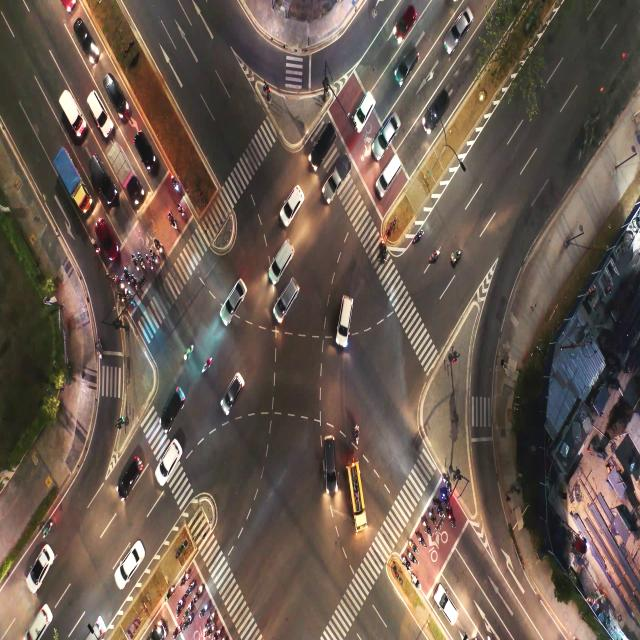bus: (353, 465, 360, 507)
car: (338, 295, 352, 343), (222, 286, 242, 314), (453, 12, 469, 42), (316, 126, 332, 154), (276, 244, 292, 270), (379, 123, 395, 147), (282, 282, 295, 311), (324, 444, 334, 481), (385, 156, 397, 183), (398, 55, 412, 78), (431, 96, 445, 119), (398, 13, 412, 33), (288, 186, 298, 214), (31, 612, 43, 634), (34, 554, 45, 577), (77, 25, 90, 44), (128, 462, 138, 485), (360, 99, 372, 117), (437, 593, 448, 610), (227, 380, 237, 398), (140, 141, 150, 158), (125, 554, 136, 569), (100, 227, 110, 243), (96, 105, 105, 122), (96, 165, 104, 181), (110, 80, 117, 97), (167, 450, 174, 466), (168, 399, 176, 413)
motorcycle: (182, 342, 195, 364), (200, 356, 210, 375), (413, 228, 423, 245), (428, 249, 440, 263), (180, 571, 190, 586), (42, 522, 53, 535), (353, 424, 360, 444), (452, 251, 462, 263), (414, 574, 422, 589), (97, 338, 104, 355), (380, 243, 387, 259), (167, 586, 174, 600), (182, 616, 190, 628), (106, 274, 114, 286), (177, 596, 183, 610), (200, 602, 207, 614), (449, 509, 453, 527), (187, 582, 193, 594), (196, 588, 202, 600), (185, 605, 191, 617), (130, 257, 136, 269), (170, 212, 174, 229), (157, 240, 163, 251), (216, 625, 221, 638), (179, 206, 184, 219), (425, 521, 430, 533), (207, 615, 212, 627), (126, 292, 132, 302), (437, 503, 442, 512), (444, 477, 448, 488), (205, 629, 212, 635), (118, 292, 124, 299), (443, 495, 448, 503), (412, 542, 417, 550), (411, 554, 416, 562), (151, 252, 155, 262), (125, 269, 129, 279), (119, 282, 124, 290), (431, 513, 435, 522), (419, 535, 423, 544), (173, 179, 177, 188), (146, 256, 149, 266), (405, 559, 409, 566), (140, 257, 142, 267), (134, 278, 136, 286)
truck: (332, 164, 347, 190), (64, 163, 74, 190), (118, 159, 126, 181), (66, 106, 75, 122)
